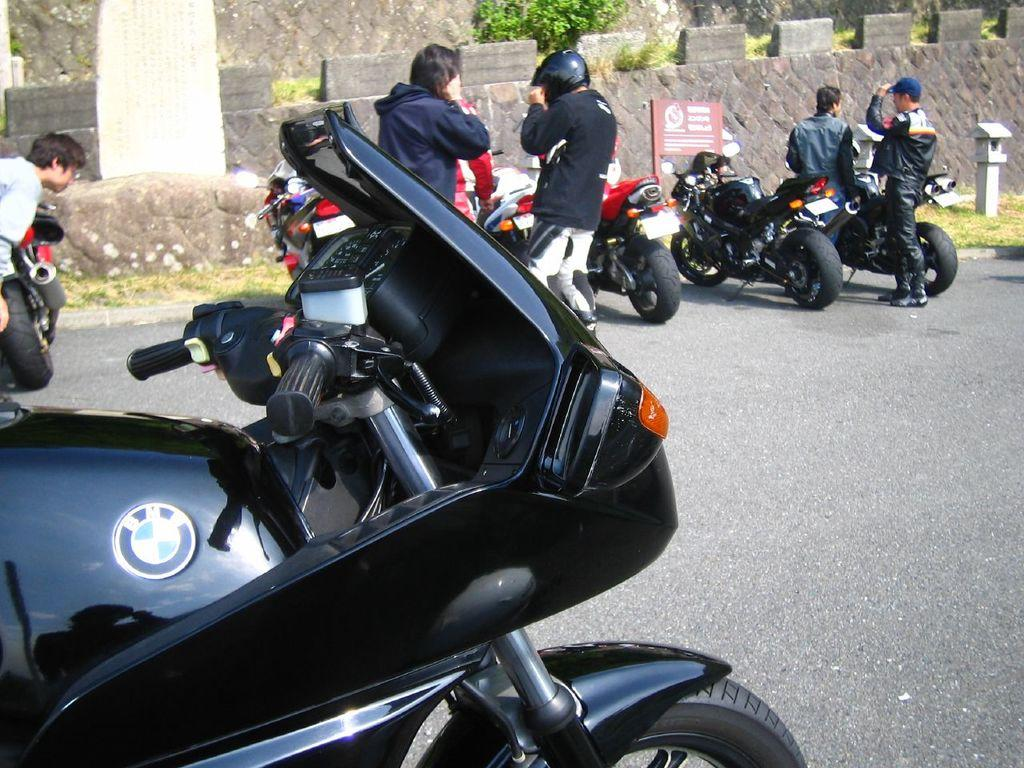helmet: (530, 49, 591, 110)
nohelmet: (27, 132, 86, 195), (409, 43, 461, 105), (885, 77, 923, 115), (815, 86, 842, 120)
